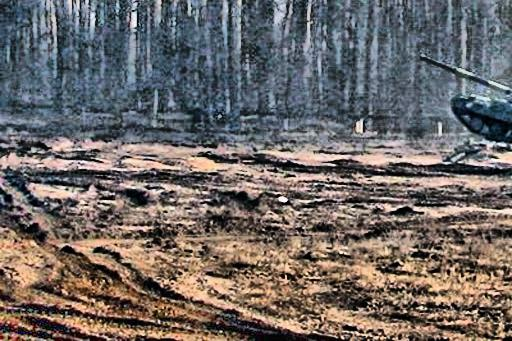tanks: (421, 56, 512, 144)
